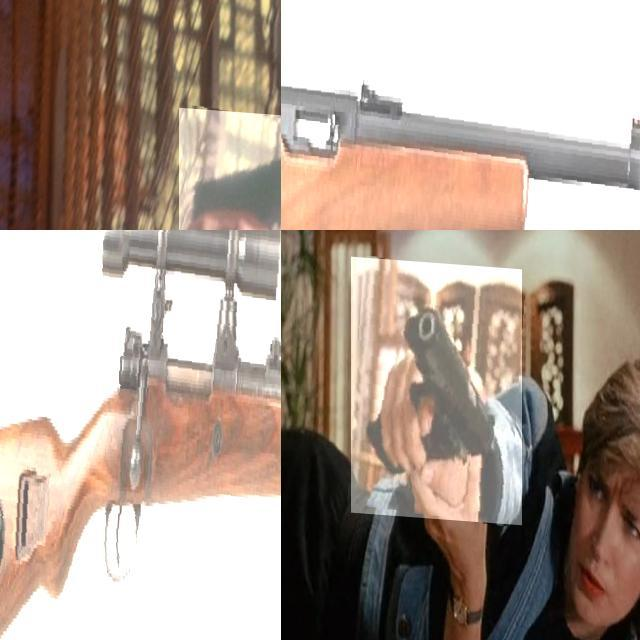gun-knife-thesis - v11 Yolov5 augmented: (0, 230, 281, 640), (281, 0, 640, 230), (351, 255, 522, 520), (179, 102, 281, 230)
